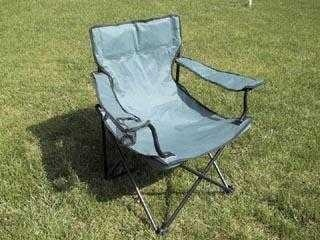obstacle: (90, 16, 261, 173)
